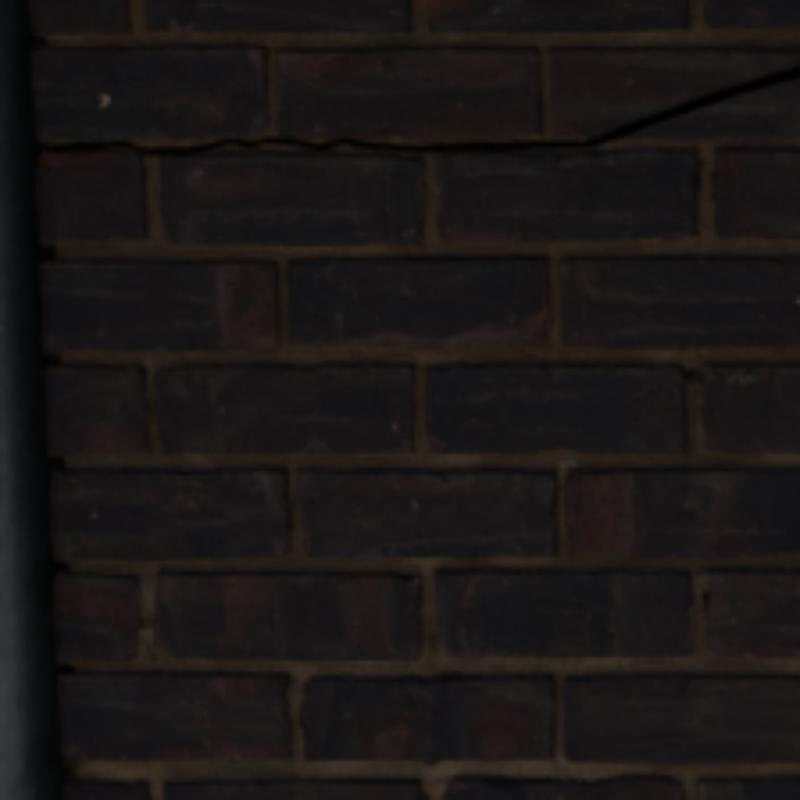pothole: (50, 68, 796, 154)
